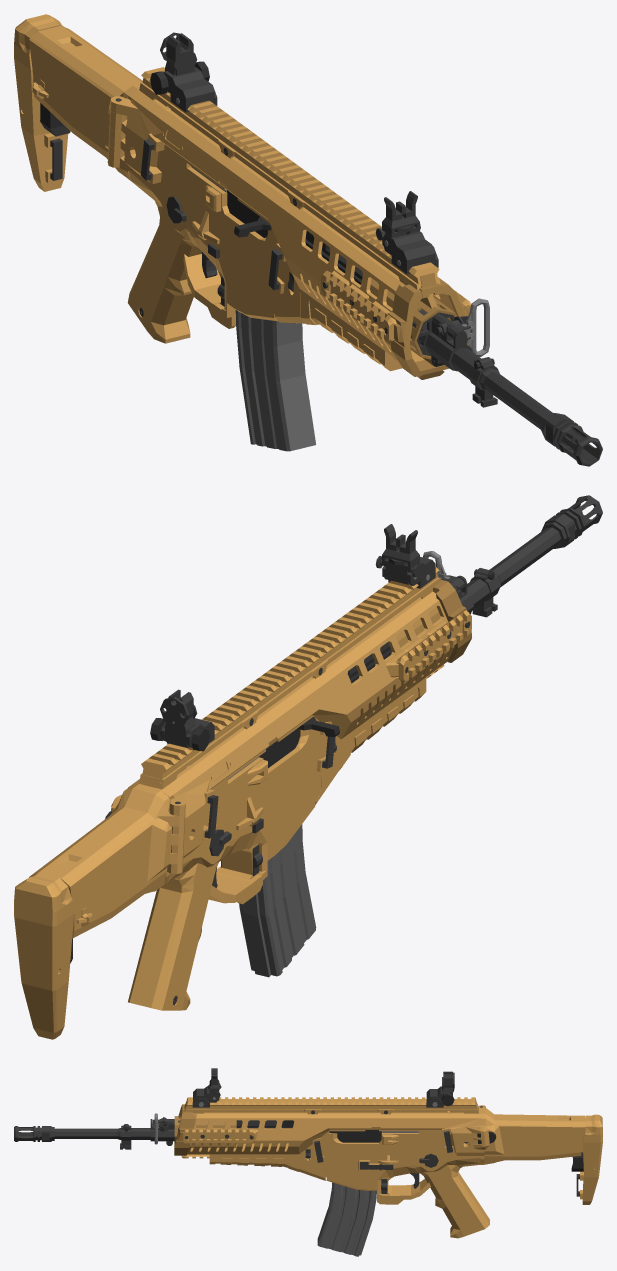
The model's file is arx160.glb.
The picture shows the model from 3 angles, top to bottom: view 1: azimuth 30°, elevation 25°; view 2: azimuth 150°, elevation 25°; view 3: azimuth 270°, elevation 25°; orthographic projection. The views are drawn at different scales.
Visible parts, largest first — view 1: Beretta ARX160 1, Beretta ARX160 1 Stock 1, Beretta ARX160 1 Magazine 1, Beretta ARX160 1 Stock 1 Part 2_Beretta ARX160 1 Material 1_, Beretta ARX160 1 Side Rail 1, Beretta ARX160 1 Rail Cover 1, Beretta ARX160 1 Frontsight 1, Beretta ARX160 1 Rearsight 1, Beretta ARX160 1 Frontsight 1 Part 1_Beretta ARX160 1 Materi, Beretta ARX160 1 Bolt Carrier 1_Beretta ARX160 1 Material 4_, Beretta ARX160 1 Rearsight 1 Part 1_Beretta ARX160 1 Materia, Beretta ARX160 1 Sling Swivel Part 1_Beretta ARX160 1 Materi (+1 smaller); view 2: Beretta ARX160 1, Beretta ARX160 1 Stock 1, Beretta ARX160 1 Stock 1 Part 2_Beretta ARX160 1 Material 1_, Beretta ARX160 1 Magazine 1, Beretta ARX160 1 Side Rail 1, Beretta ARX160 1 Frontsight 1 Part 1_Beretta ARX160 1 Materi, Beretta ARX160 1 Rail Cover 1, Beretta ARX160 1 Bolt Carrier 1_Beretta ARX160 1 Material 4_, Beretta ARX160 1 Rearsight 1 Part 1_Beretta ARX160 1 Materia, Beretta ARX160 1 Bayonet Lug 1; view 3: Beretta ARX160 1, Beretta ARX160 1 Stock 1, Beretta ARX160 1 Magazine 1, Beretta ARX160 1 Stock 1 Part 2_Beretta ARX160 1 Material 1_, Beretta ARX160 1 Rail Cover 1, Beretta ARX160 1 Side Rail 1.001_Beretta ARX160 1 Material 1, Beretta ARX160 1 Bolt Carrier 1_Beretta ARX160 1 Material 4_, Beretta ARX160 1 Frontsight 1, Beretta ARX160 1 Rearsight 1, Beretta ARX160 1 Bayonet Lug 1, Beretta ARX160 1 Frontsight 1 Part 1_Beretta ARX160 1 Materi.
Part boxes in pixels (left/top/right/bottom): Beretta ARX160 1: left=107, top=67, right=602, bottom=466; Beretta ARX160 1 Stock 1: left=29, top=26, right=142, bottom=177; Beretta ARX160 1 Magazine 1: left=235, top=310, right=315, bottom=451; Beretta ARX160 1 Stock 1 Part 2_Beretta ARX160 1 Material 1_: left=14, top=14, right=75, bottom=191; Beretta ARX160 1 Side Rail 1: left=321, top=270, right=396, bottom=343; Beretta ARX160 1 Rail Cover 1: left=293, top=291, right=402, bottom=371; Beretta ARX160 1 Frontsight 1: left=382, top=231, right=438, bottom=274; Beretta ARX160 1 Rearsight 1: left=163, top=66, right=217, bottom=112; Beretta ARX160 1 Frontsight 1 Part 1_Beretta ARX160 1 Materi: left=375, top=191, right=420, bottom=240; Beretta ARX160 1 Bolt Carrier 1_Beretta ARX160 1 Material 4_: left=227, top=190, right=362, bottom=284; Beretta ARX160 1 Rearsight 1 Part 1_Beretta ARX160 1 Materia: left=165, top=33, right=197, bottom=75; Beretta ARX160 1 Sling Swivel Part 1_Beretta ARX160 1 Materi: left=463, top=298, right=489, bottom=356; Beretta ARX160 1: left=111, top=495, right=602, bottom=1010; Beretta ARX160 1 Stock 1: left=29, top=784, right=185, bottom=937; Beretta ARX160 1 Stock 1 Part 2_Beretta ARX160 1 Material 1_: left=14, top=860, right=76, bottom=1039; Beretta ARX160 1 Magazine 1: left=239, top=824, right=316, bottom=977; Beretta ARX160 1 Side Rail 1: left=386, top=610, right=471, bottom=682; Beretta ARX160 1 Frontsight 1 Part 1_Beretta ARX160 1 Materi: left=375, top=524, right=420, bottom=584; Beretta ARX160 1 Rail Cover 1: left=340, top=677, right=426, bottom=769; Beretta ARX160 1 Bolt Carrier 1_Beretta ARX160 1 Material 4_: left=259, top=642, right=391, bottom=768; Beretta ARX160 1 Rearsight 1 Part 1_Beretta ARX160 1 Materia: left=165, top=689, right=197, bottom=747; Beretta ARX160 1 Bayonet Lug 1: left=470, top=568, right=500, bottom=617; Beretta ARX160 1: left=14, top=1097, right=489, bottom=1238; Beretta ARX160 1 Stock 1: left=480, top=1107, right=585, bottom=1164; Beretta ARX160 1 Magazine 1: left=317, top=1182, right=376, bottom=1256; Beretta ARX160 1 Stock 1 Part 2_Beretta ARX160 1 Material 1_: left=560, top=1114, right=602, bottom=1204; Beretta ARX160 1 Rail Cover 1: left=209, top=1154, right=298, bottom=1171; Beretta ARX160 1 Side Rail 1.001_Beretta ARX160 1 Material 1: left=183, top=1129, right=258, bottom=1143; Beretta ARX160 1 Bolt Carrier 1_Beretta ARX160 1 Material 4_: left=236, top=1120, right=381, bottom=1142; Beretta ARX160 1 Frontsight 1: left=192, top=1086, right=219, bottom=1107; Beretta ARX160 1 Rearsight 1: left=426, top=1086, right=452, bottom=1107; Beretta ARX160 1 Bayonet Lug 1: left=120, top=1124, right=131, bottom=1149; Beretta ARX160 1 Frontsight 1 Part 1_Beretta ARX160 1 Materi: left=207, top=1068, right=221, bottom=1098.
Bounding box in the file's own units: 0.1029 × 0.3682 × 1.08.
